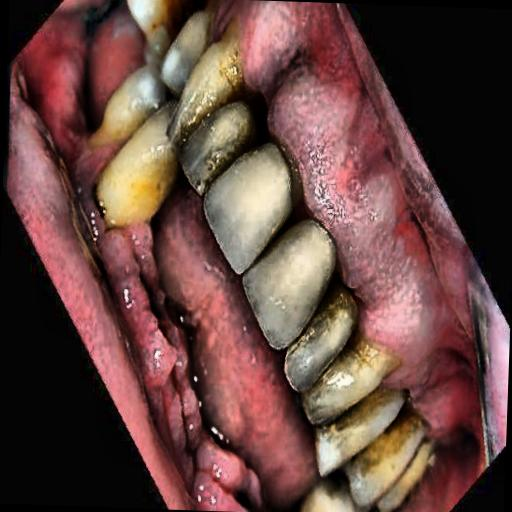Calculus: (287, 292, 432, 497), (142, 24, 284, 230)
